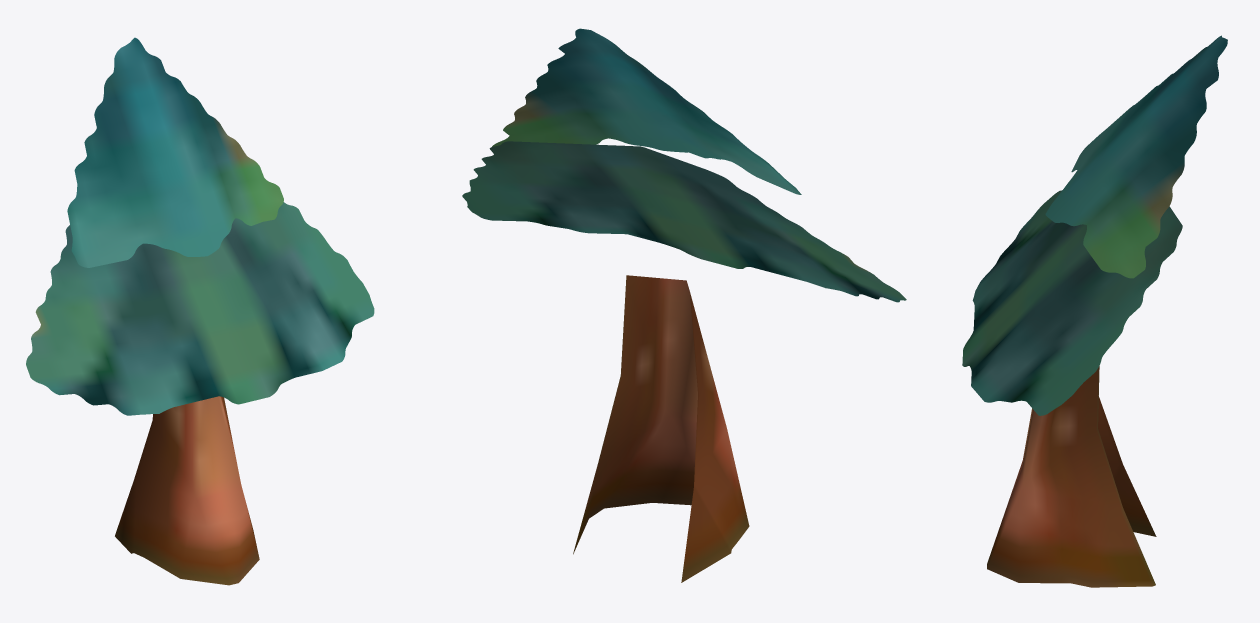
Rendered from fg_treeB_0.dae.
3 views of the same model, side by side, from view 1: azimuth 30°, elevation 25°; view 2: azimuth 150°, elevation 25°; view 3: azimuth 270°, elevation 25° (orthographic). The views are drawn at different scales.
Visible parts, largest first — view 1: vsn_mesh_0_; view 2: vsn_mesh_0_; view 3: vsn_mesh_0_.
Part boxes in pixels (x1,y1,x2,y2): vsn_mesh_0_: (26,37,374,585); vsn_mesh_0_: (462,28,906,582); vsn_mesh_0_: (962,35,1227,587).
Size of the model in its own units: 14.86 by 18.32 by 8.51.
